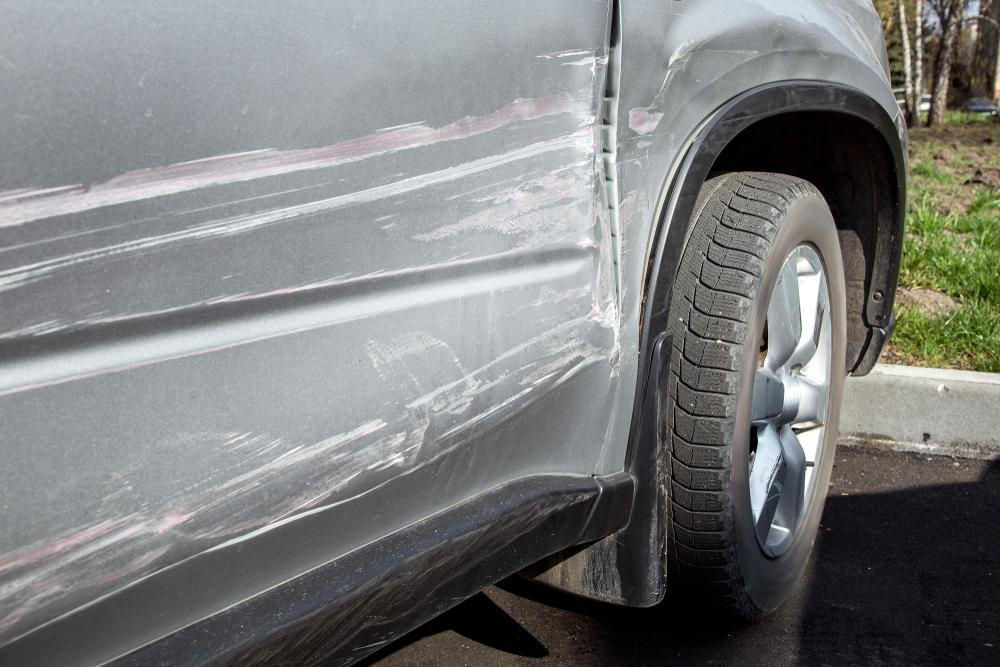dent: (619, 27, 832, 271)
scratch: (0, 46, 625, 646)
